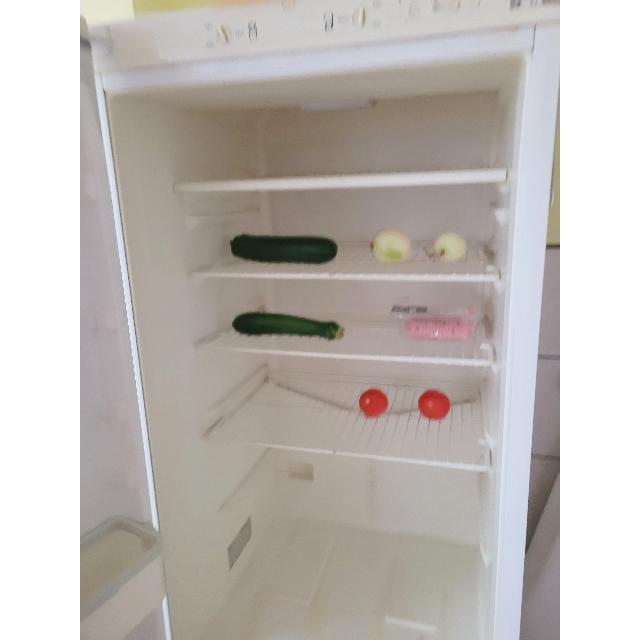meat: (406, 314, 474, 340)
onion: (372, 228, 412, 264), (432, 231, 468, 263)
tomato: (416, 388, 452, 420), (358, 387, 389, 417)
zucchini: (230, 233, 338, 263), (235, 311, 343, 339)
